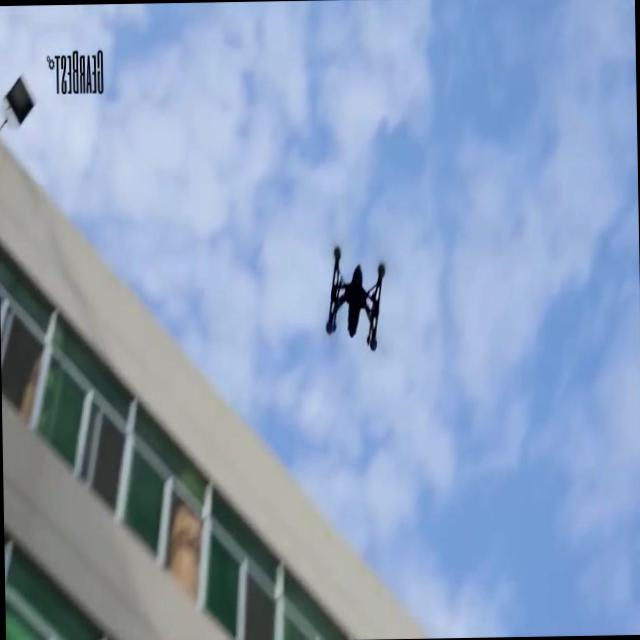drone: (322, 243, 388, 355)
